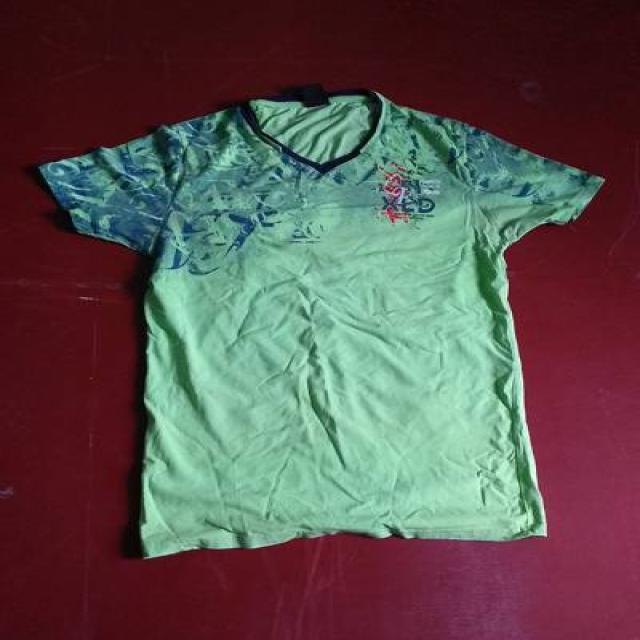shirt: (38, 93, 607, 560)
